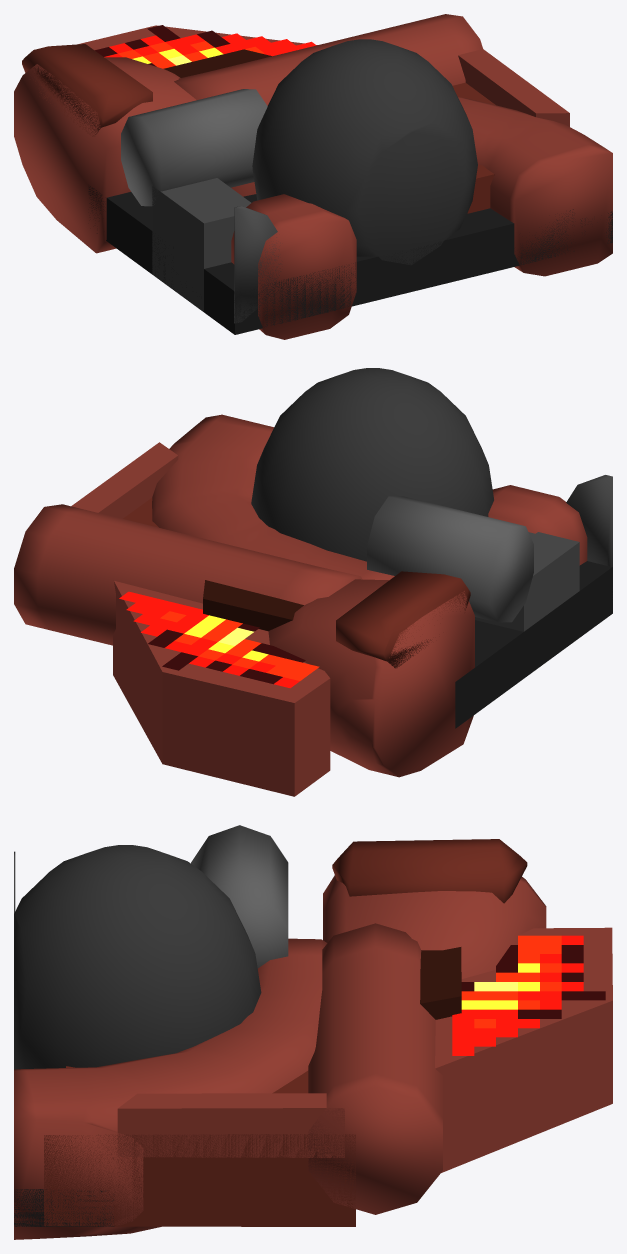
The model's file is newsht-7.glb.
3 views of the same model, one above another, from view 1: azimuth 30°, elevation 25°; view 2: azimuth 150°, elevation 25°; view 3: azimuth 270°, elevation 25° (orthographic). The views are drawn at different scales.
Parts seen in each view (by area): view 1: newsht-7; view 2: newsht-7; view 3: newsht-7.
Part boxes in pixels (bbox=[...]): newsht-7: bbox=[14, 14, 612, 339]; newsht-7: bbox=[14, 368, 612, 796]; newsht-7: bbox=[14, 825, 612, 1239].
Size of the model in its own units: 2 by 1.18 by 2.28.
